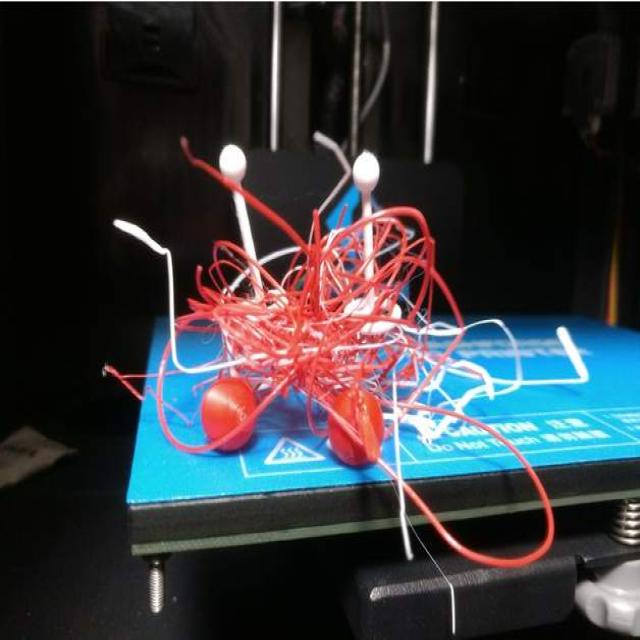Spaghetti: (126, 145, 488, 497)
